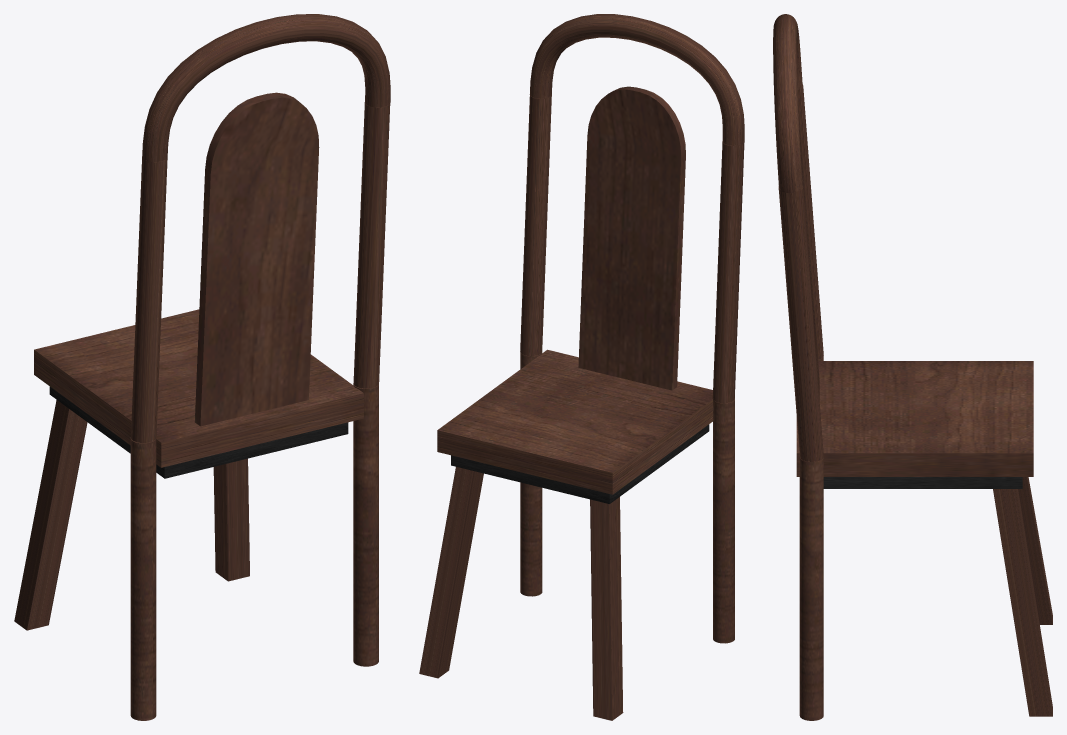
The model's file is silla.obj.
3 views of the same model, side by side, from view 1: azimuth 30°, elevation 25°; view 2: azimuth 150°, elevation 25°; view 3: azimuth 270°, elevation 25° (orthographic). The views are drawn at different scales.
Visible parts, largest first — view 1: silla4:group11_pasted__pDisc1 pasted__group42 group; view 2: silla4:group11_pasted__pDisc1 pasted__group42 group; view 3: silla4:group11_pasted__pDisc1 pasted__group42 group.
Boxes of the visible parts, x1,y1,x2,y2 form: silla4:group11_pasted__pDisc1 pasted__group42 group: (14, 14, 390, 720); silla4:group11_pasted__pDisc1 pasted__group42 group: (419, 14, 744, 720); silla4:group11_pasted__pDisc1 pasted__group42 group: (773, 14, 1052, 720).
Size of the model in its own units: 0.6785 by 1.8 by 0.7189.
2 materials, 2 textured.
